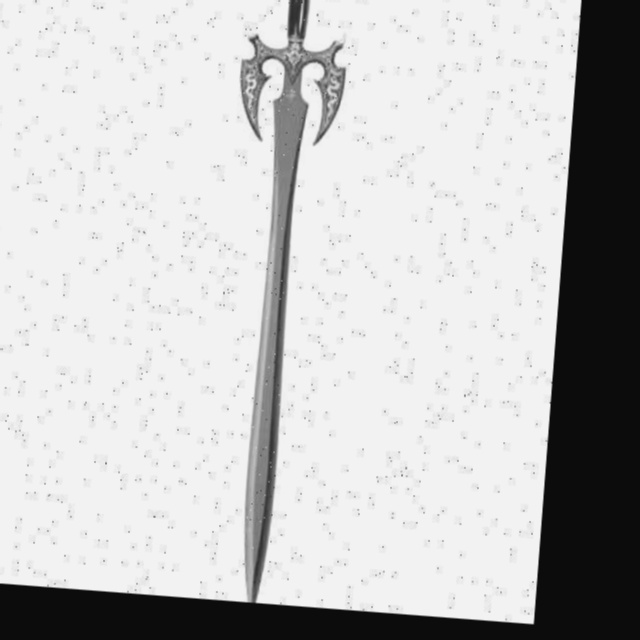Sharp-Object: (228, 0, 328, 603)
